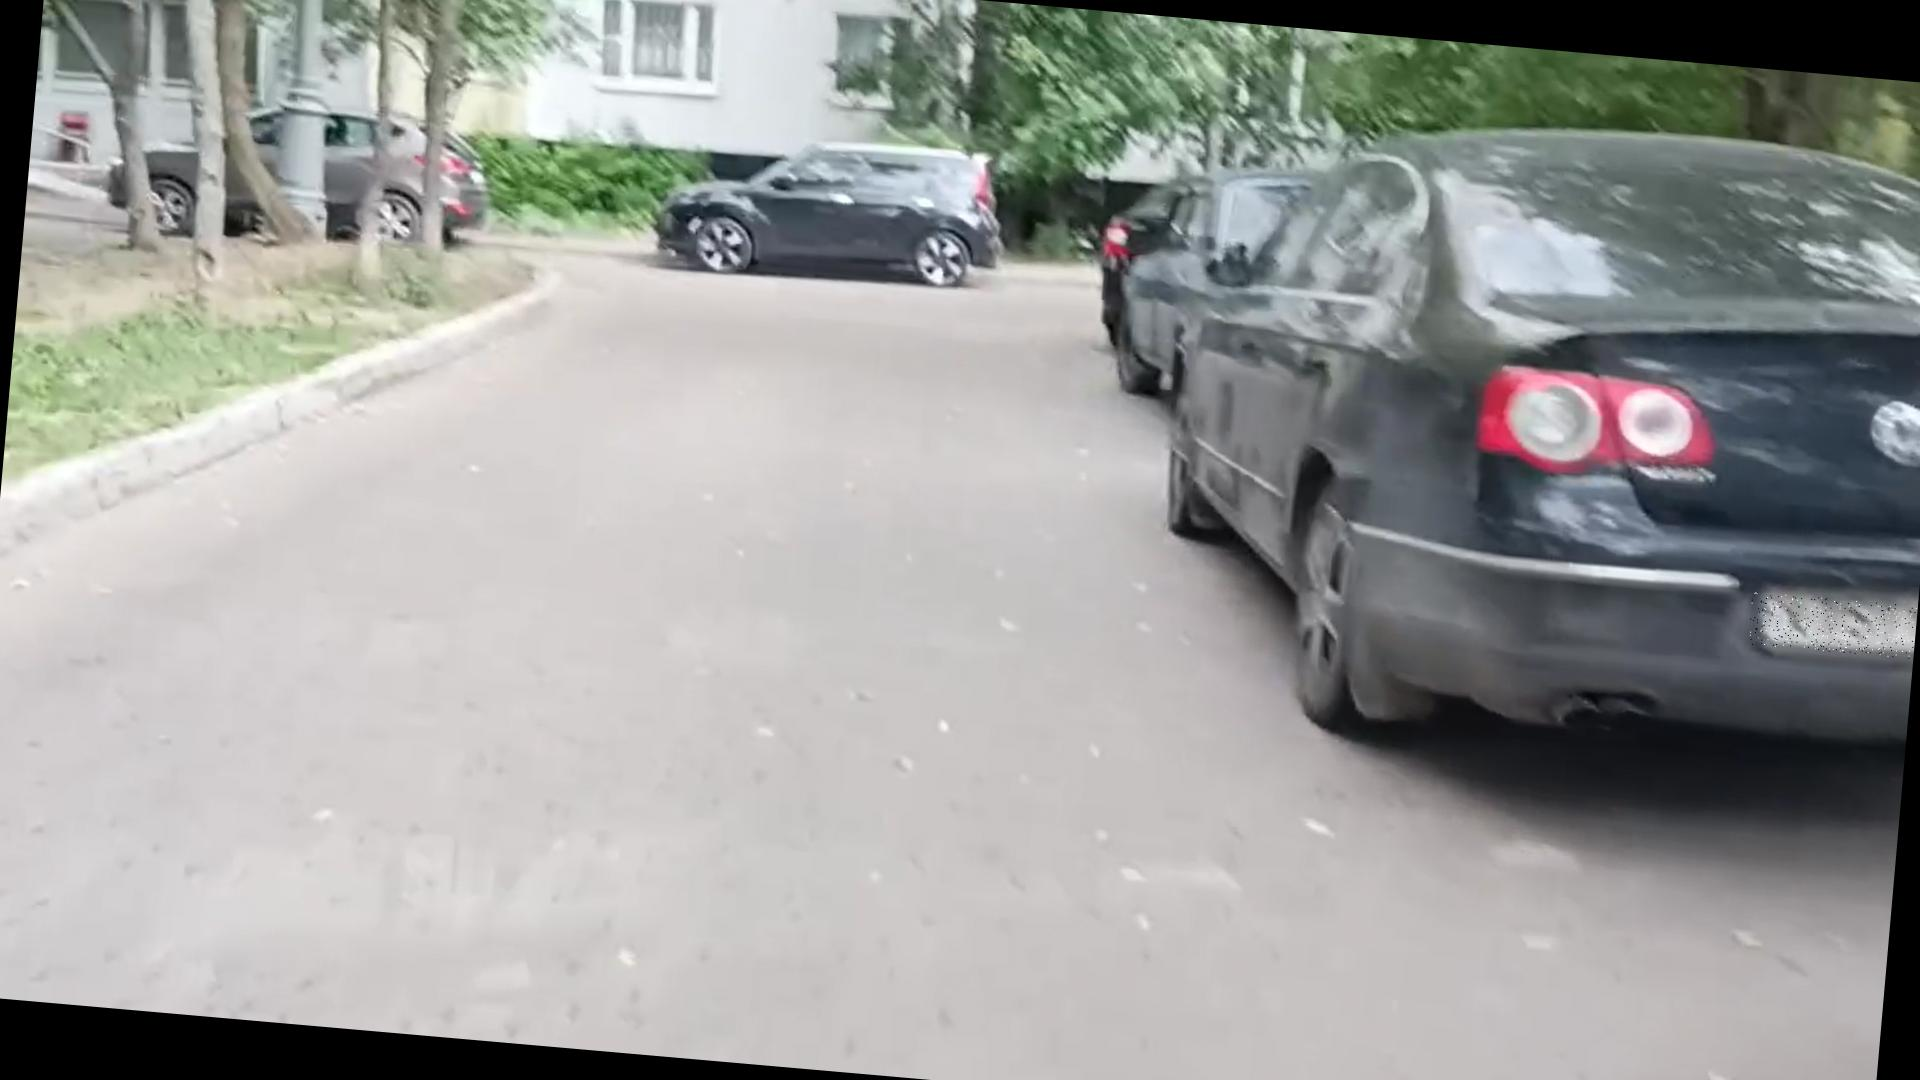plate: (1750, 593, 1919, 660)
